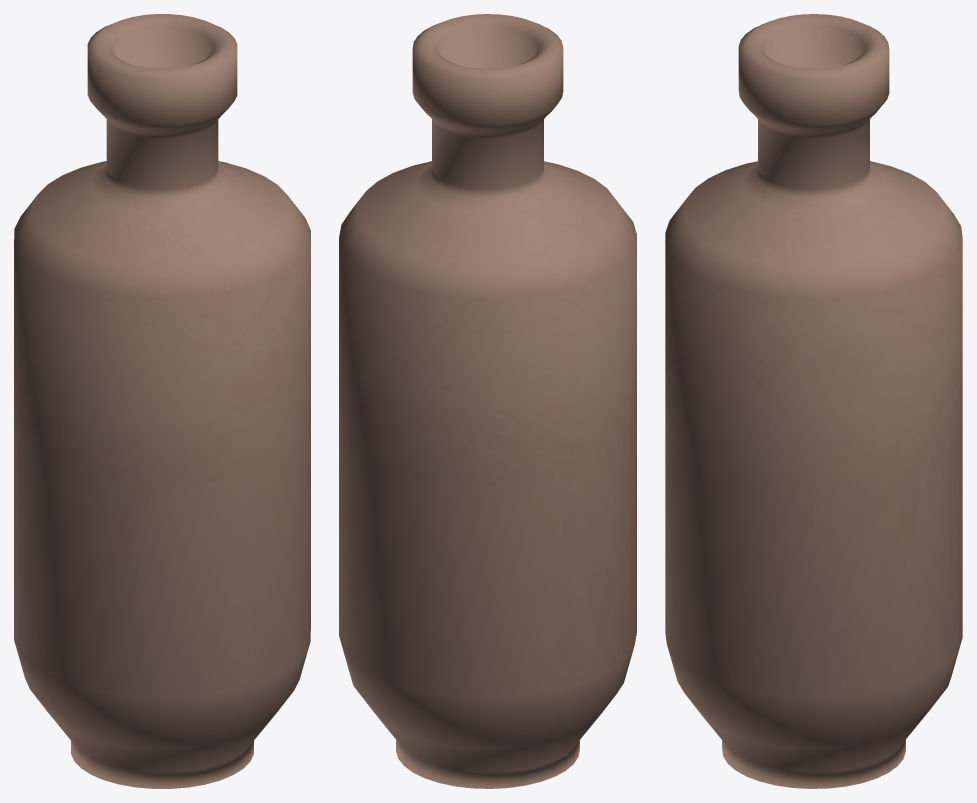
The model's file is m_bouteille_1.fbx.
3 views of the same model, side by side, from view 1: azimuth 30°, elevation 25°; view 2: azimuth 150°, elevation 25°; view 3: azimuth 270°, elevation 25° (orthographic).
Visible parts, largest first — view 1: Bol; view 2: Bol; view 3: Bol.
Boxes of the visible parts, x1,y1,x2,y2 form: Bol: (14, 14, 310, 788); Bol: (339, 14, 636, 788); Bol: (665, 14, 962, 788).
Bounding box in the file's own units: 11.37 × 29.89 × 11.37.
